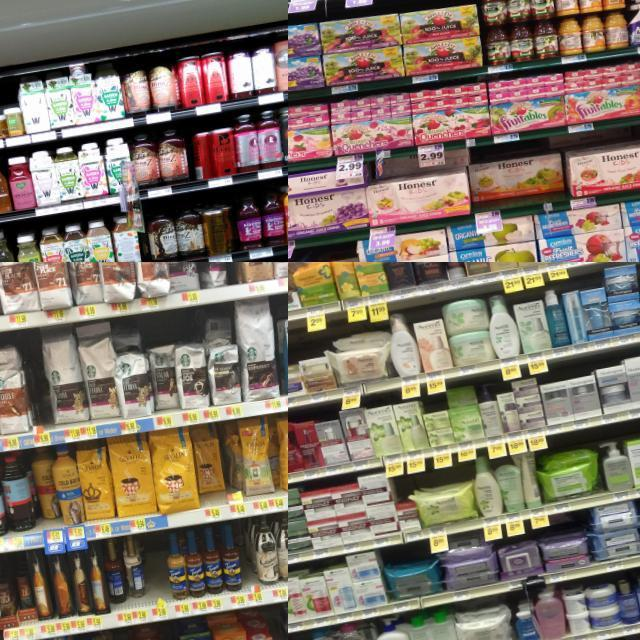empty: (32, 370, 56, 446), (144, 565, 174, 621), (242, 556, 264, 606)
